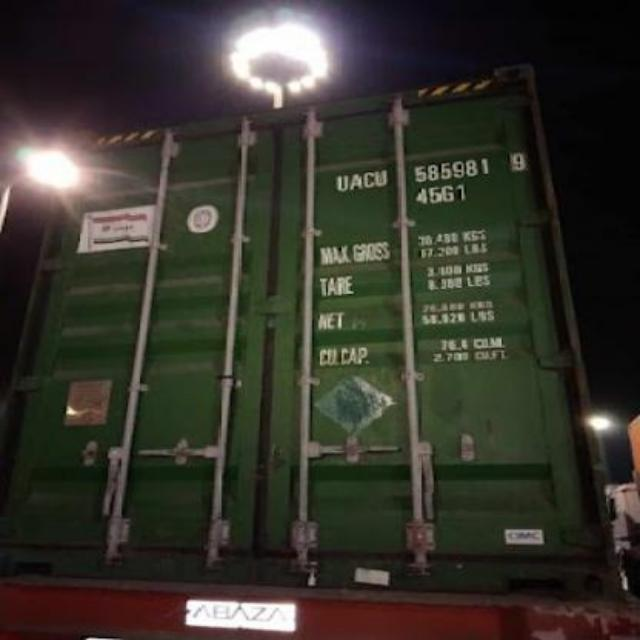1: (478, 156, 494, 177)
5: (412, 162, 426, 184), (440, 159, 452, 183)
8: (426, 160, 438, 184), (466, 154, 476, 180)
9: (504, 148, 530, 174), (451, 155, 464, 181)
A: (350, 169, 362, 195)
C: (362, 166, 376, 192)
U: (330, 169, 350, 195), (372, 167, 388, 190)
